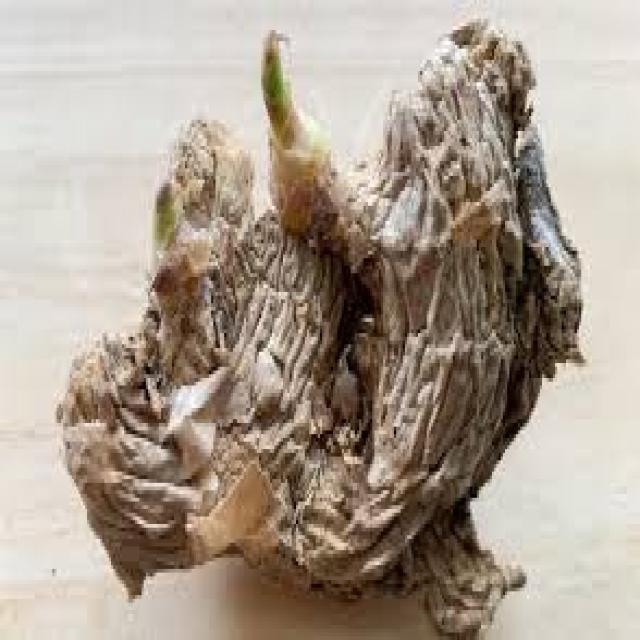ginger: (68, 41, 578, 583)
